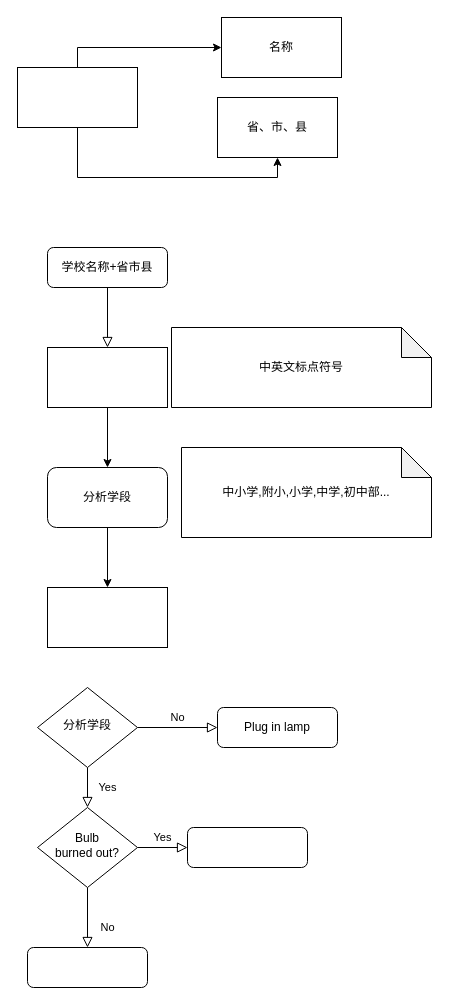
The diagram is 449 pixels wide and 1005 high, and some of its shapes have lost their labels. The shapes that lost their labels are listed below. From the top down, each one's centre as x and y in pixels, then its label:
At (77,97): "学校名称复合字段".
At (107,377): "特殊符号规范化".
At (247,847): "Replace Bulb".
At (87,967): "Repair Lamp".
